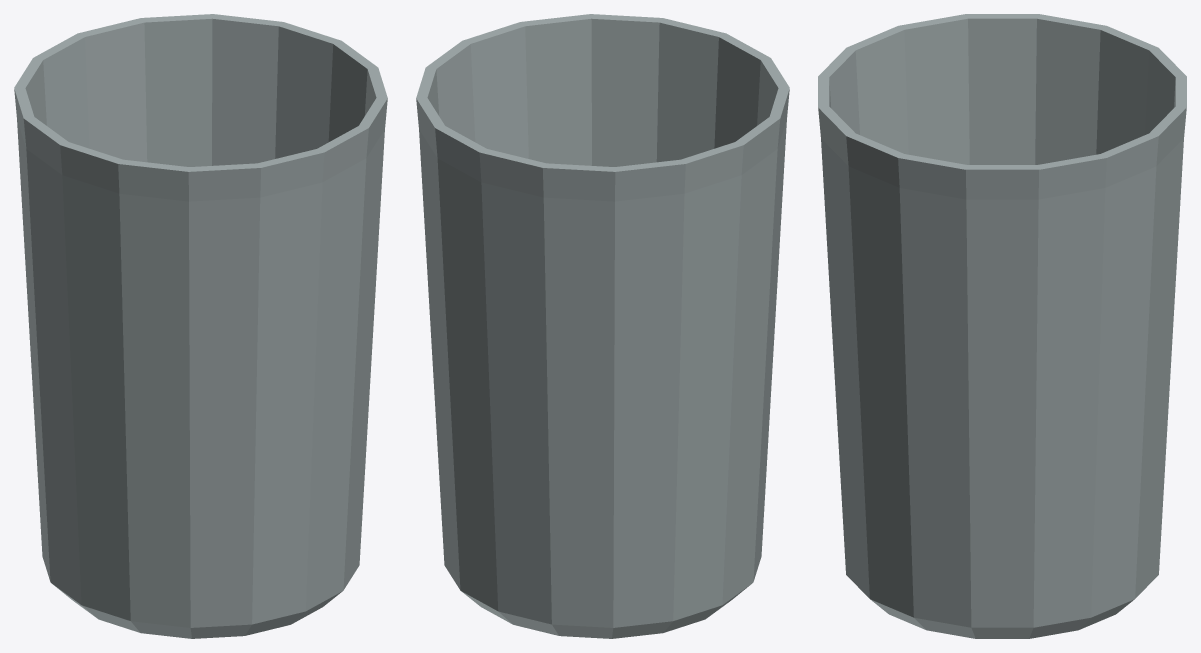
File: SM_Cook_TeaGlass_01.fbx
3 views of the same model, side by side, from view 1: azimuth 30°, elevation 25°; view 2: azimuth 150°, elevation 25°; view 3: azimuth 270°, elevation 25° (orthographic).
Visible parts, largest first — view 1: SM_Cook_TeaGlass_01; view 2: SM_Cook_TeaGlass_01; view 3: SM_Cook_TeaGlass_01.
Part boxes in pixels (box(x1,y1,x2,y2)): SM_Cook_TeaGlass_01: box(14, 14, 387, 638); SM_Cook_TeaGlass_01: box(416, 14, 789, 638); SM_Cook_TeaGlass_01: box(818, 14, 1186, 638).
Bounding box in the file's own units: 0.0647 × 0.095 × 0.0647.
1 material, 1 textured.
